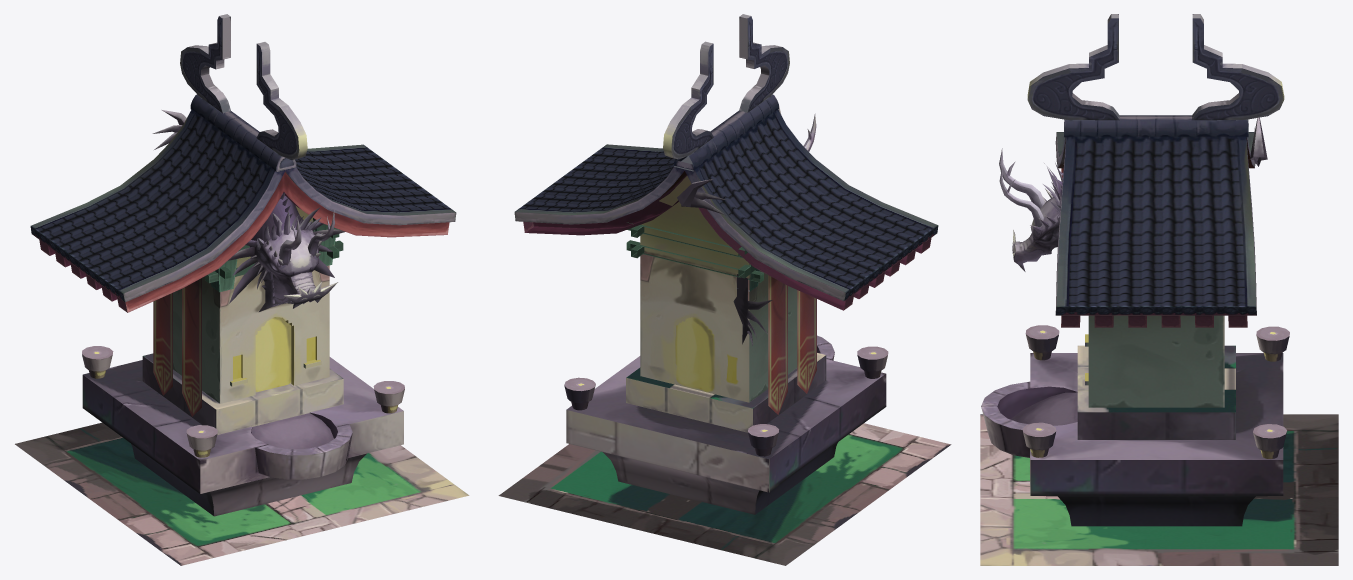
File: fangzi.fbx
The picture shows the model from 3 angles, left to right: view 1: azimuth 30°, elevation 25°; view 2: azimuth 150°, elevation 25°; view 3: azimuth 270°, elevation 25°; orthographic projection. The views are drawn at different scales.
Visible parts, largest first — view 1: Box01; view 2: Box01; view 3: Box01.
Boxes of the visible parts, left/top/right/bottom form: Box01: left=15, top=14, right=469, bottom=565; Box01: left=498, top=14, right=951, bottom=565; Box01: left=980, top=14, right=1338, bottom=565.
Bounding box in the file's own units: 139 × 175 × 120.
Materials: 1 (1 with a texture image).
